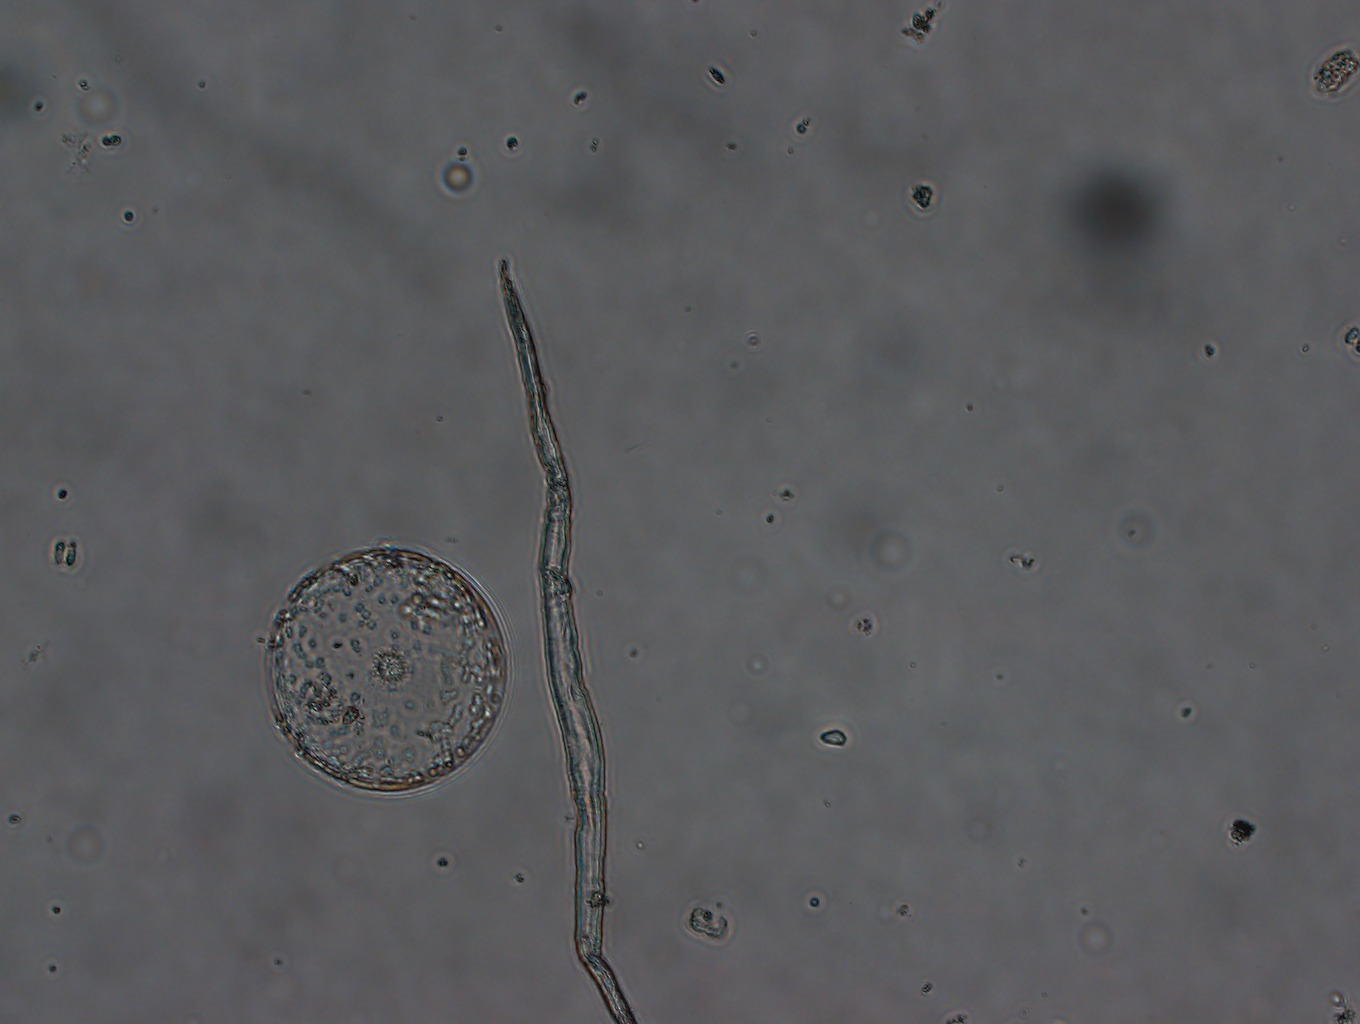chaetoceros: (259, 541, 515, 801)
